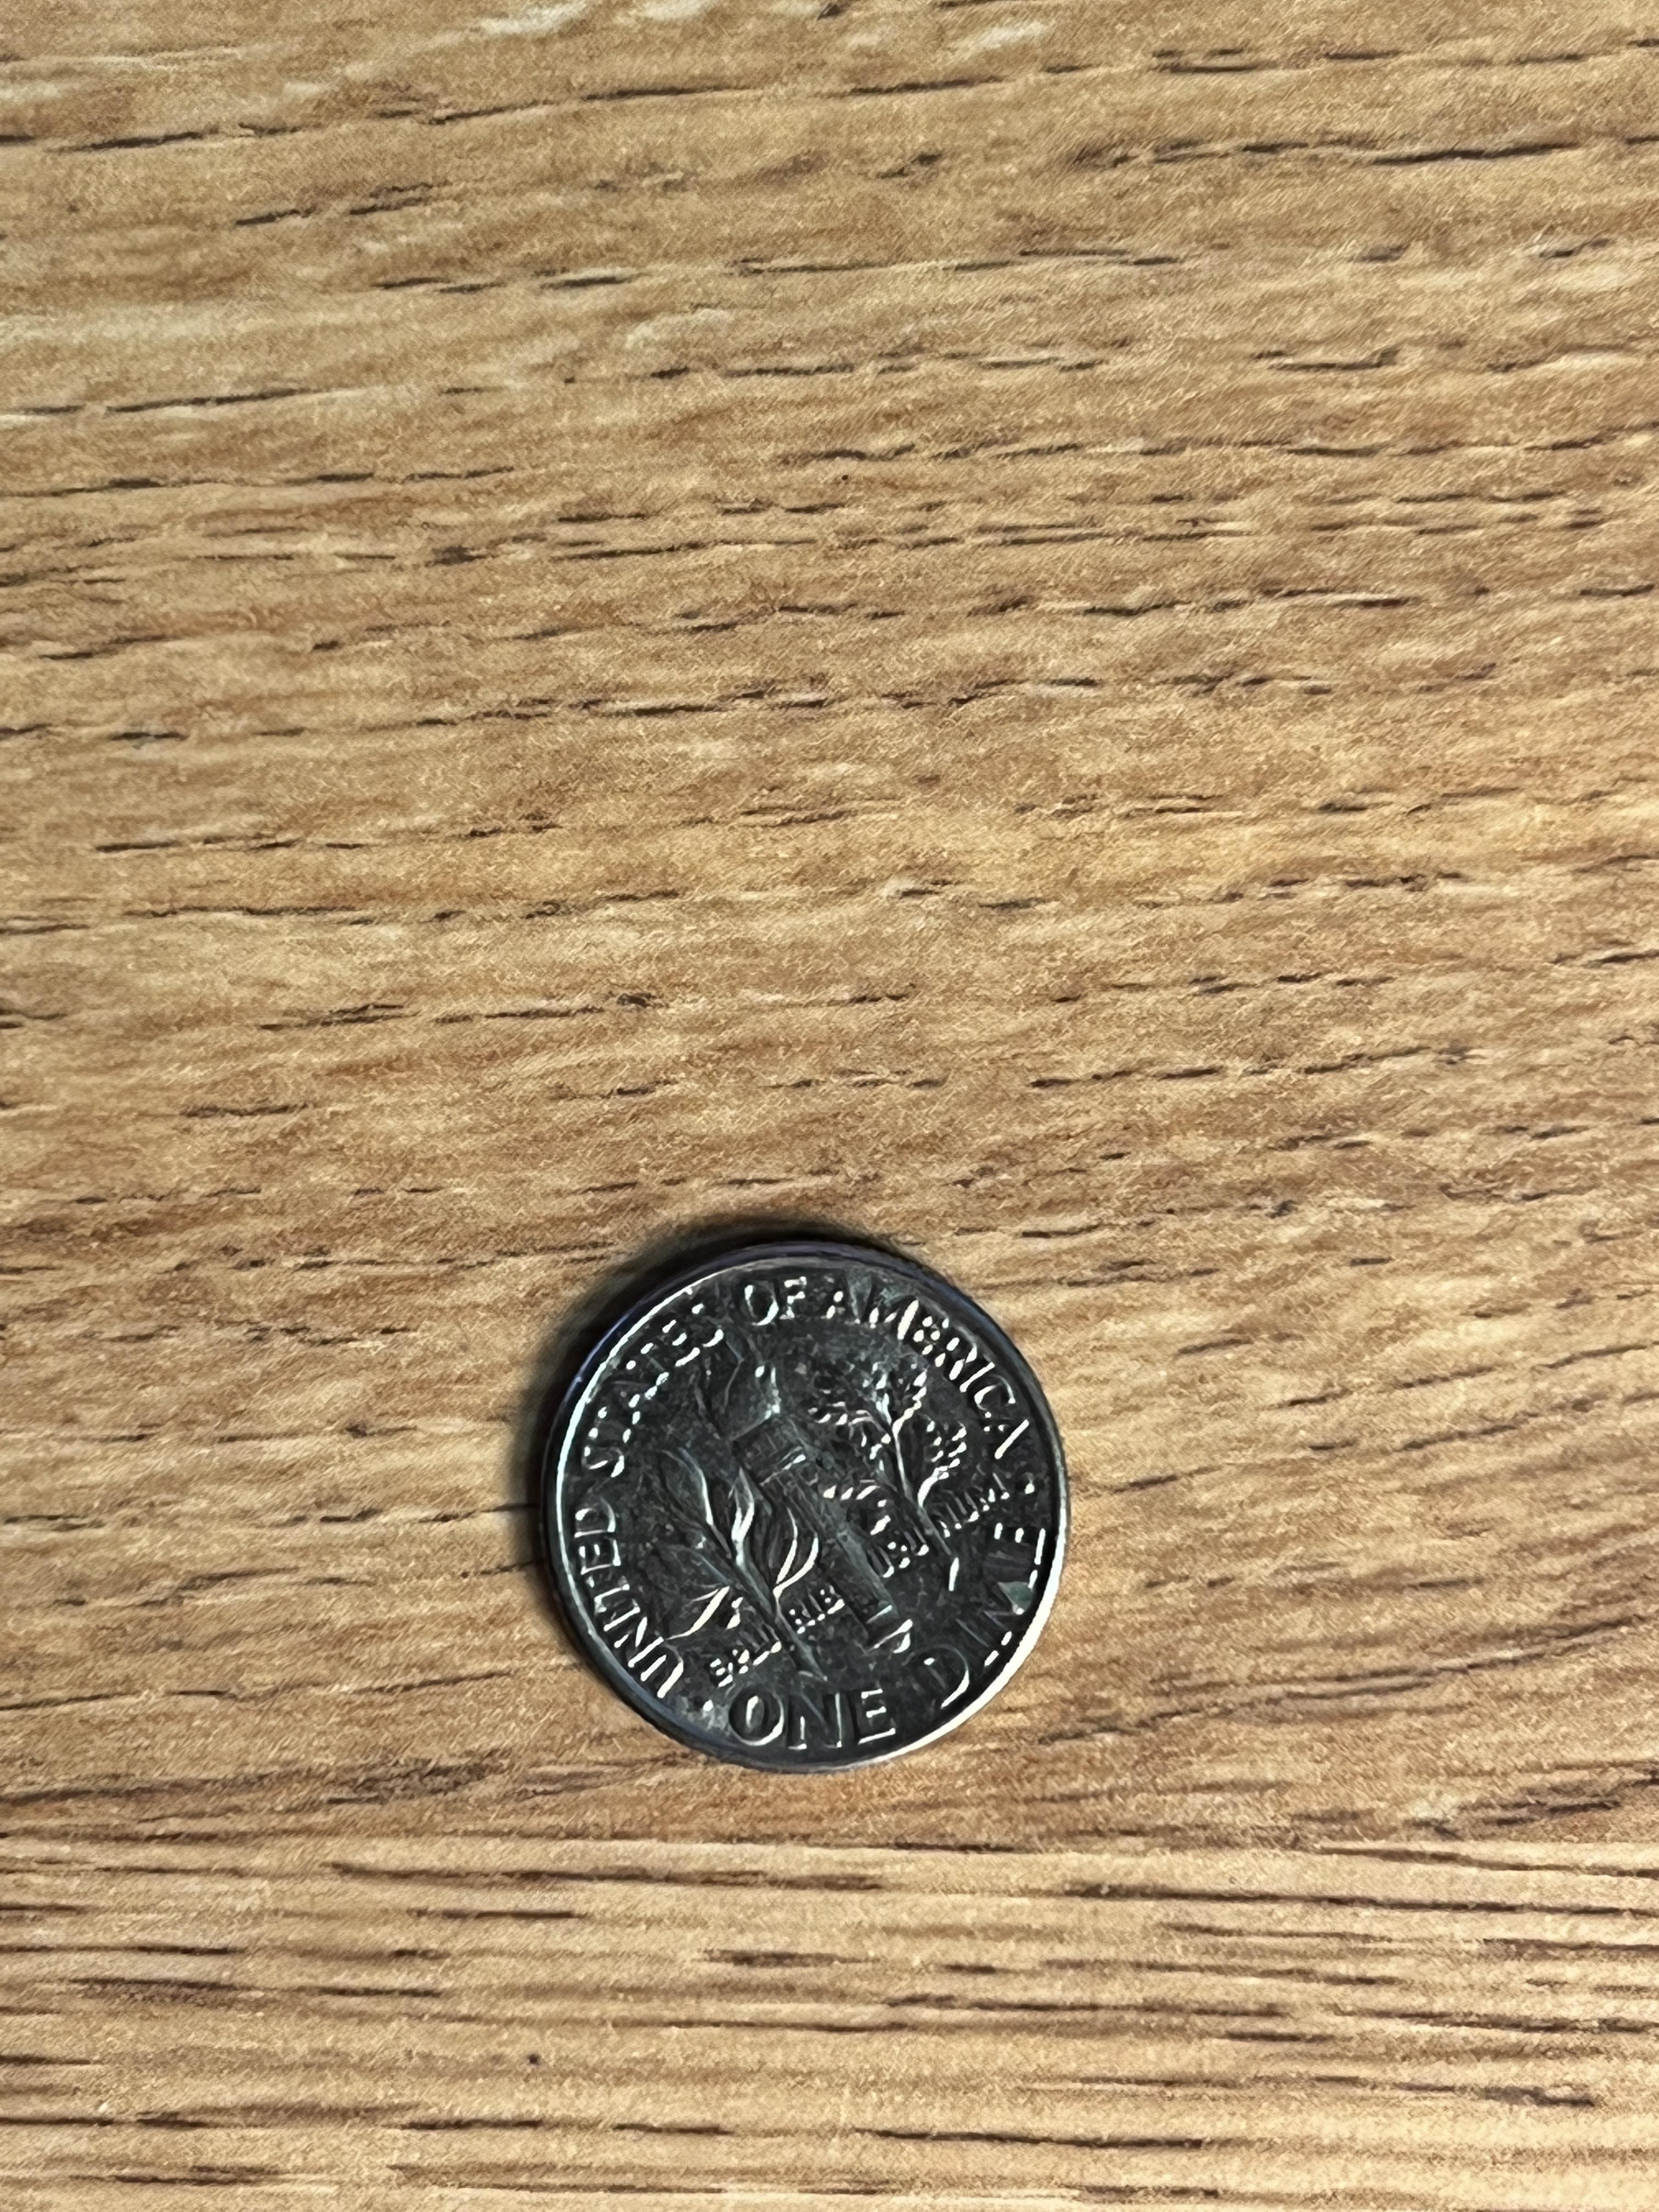Dime: (507, 1197, 1150, 1794)
